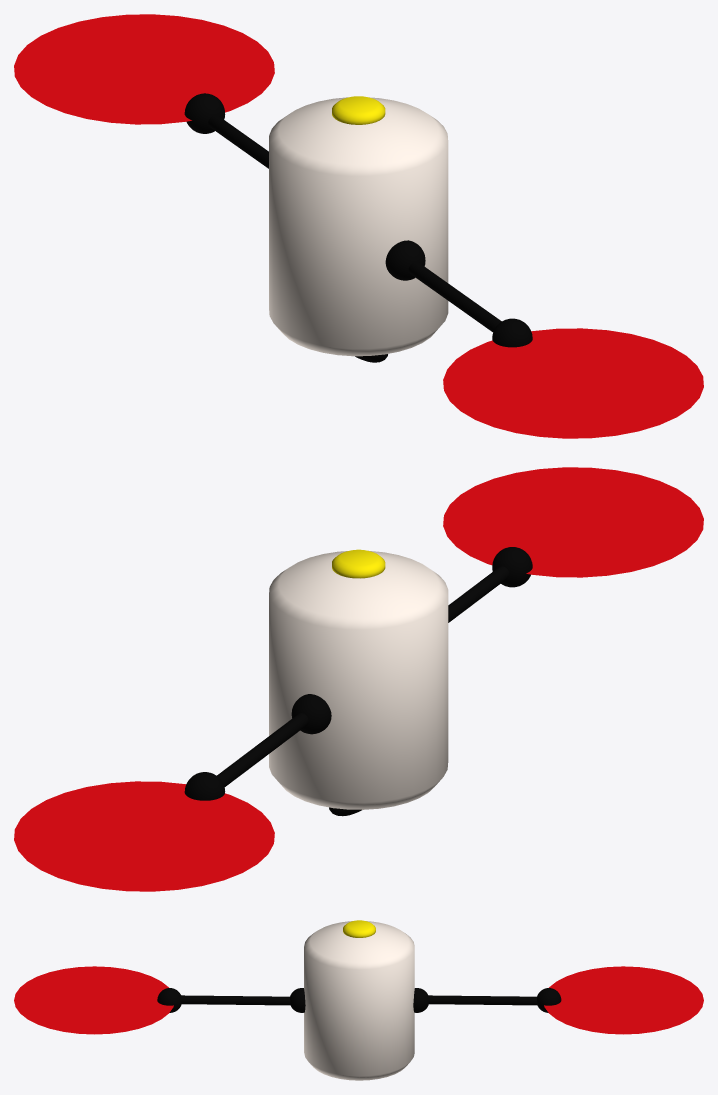
Rendered from SlicerColoured.fbx.
3 views of the same model, one above another, from view 1: azimuth 30°, elevation 25°; view 2: azimuth 150°, elevation 25°; view 3: azimuth 270°, elevation 25° (orthographic). The views are drawn at different scales.
Parts seen in each view (by area): view 1: Circle, Cylinder, Cylinder.002, Cylinder.003, Sphere.003, Sphere.001, Cylinder.001, Sphere.002; view 2: Circle, Cylinder, Cylinder.001, Cylinder.003, Sphere.002, Sphere, Cylinder.002, Sphere.003; view 3: Circle, Cylinder, Cylinder.002, Cylinder.001, Cylinder.003, Sphere.002, Sphere.003, Sphere, Sphere.001.
Boxes of the visible parts, left/top/right/bottom form: Circle: left=14, top=14, right=703, bottom=438; Cylinder: left=269, top=97, right=448, bottom=356; Cylinder.002: left=408, top=262, right=501, bottom=332; Cylinder.003: left=332, top=96, right=385, bottom=124; Sphere.003: left=184, top=93, right=225, bottom=133; Sphere.001: left=385, top=240, right=425, bottom=280; Cylinder.001: left=208, top=115, right=268, bottom=168; Sphere.002: left=492, top=318, right=532, bottom=347; Circle: left=14, top=467, right=703, bottom=891; Cylinder: left=269, top=550, right=448, bottom=809; Cylinder.001: left=217, top=713, right=308, bottom=787; Cylinder.003: left=332, top=549, right=385, bottom=578; Sphere.002: left=492, top=547, right=532, bottom=587; Sphere: left=291, top=694, right=331, bottom=734; Cylinder.002: left=448, top=566, right=509, bottom=622; Sphere.003: left=184, top=772, right=225, bottom=800; Circle: left=14, top=966, right=703, bottom=1034; Cylinder: left=304, top=921, right=414, bottom=1080; Cylinder.002: left=181, top=995, right=290, bottom=1005; Cylinder.001: left=428, top=995, right=537, bottom=1005; Cylinder.003: left=343, top=920, right=375, bottom=937; Sphere.002: left=157, top=988, right=181, bottom=1012; Sphere.003: left=537, top=988, right=561, bottom=1012; Sphere: left=413, top=988, right=428, bottom=1012; Sphere.001: left=290, top=988, right=305, bottom=1012.
Bounding box in the file's own units: 214 × 226 × 917.
